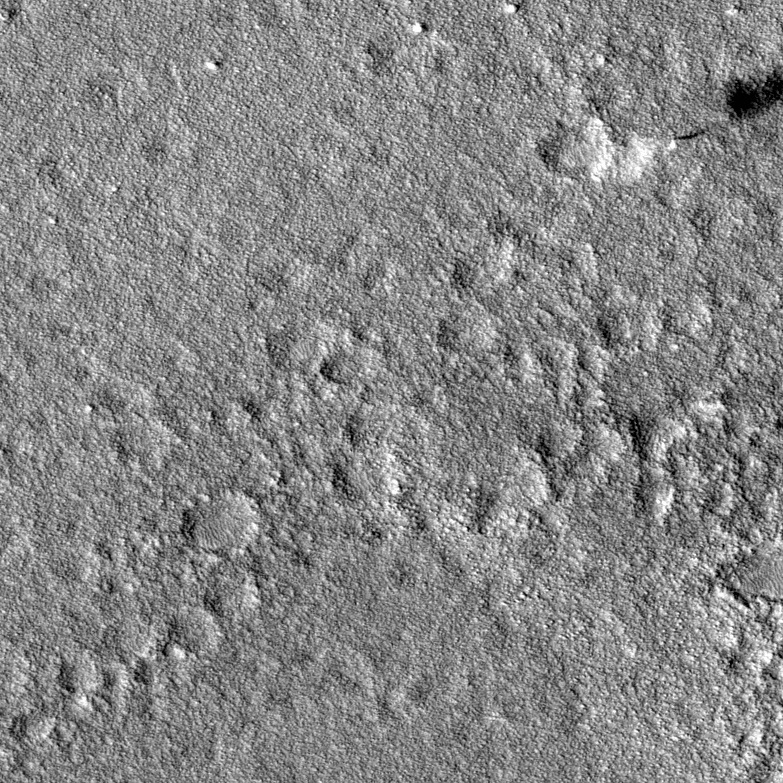dust_devil: (582, 59, 783, 187)
